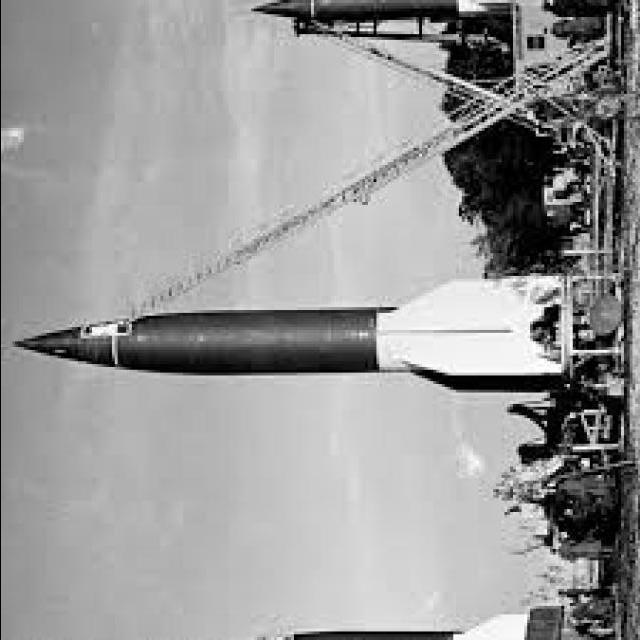missile: (19, 268, 622, 406)
